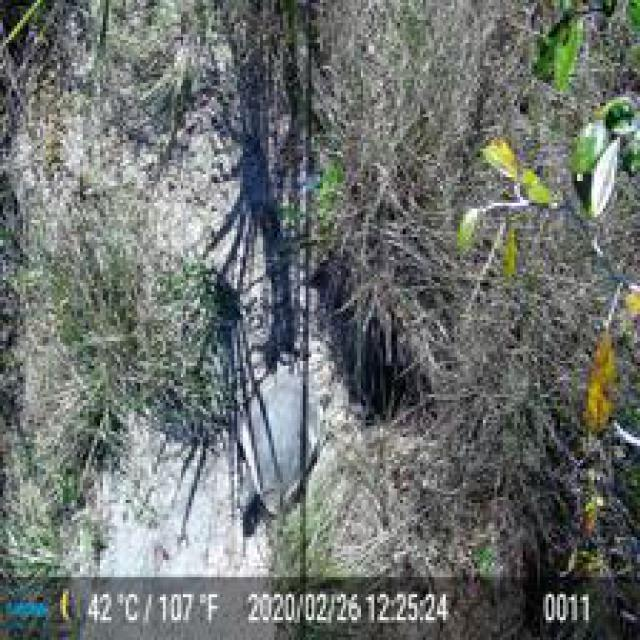tortoise: (223, 363, 323, 534)
